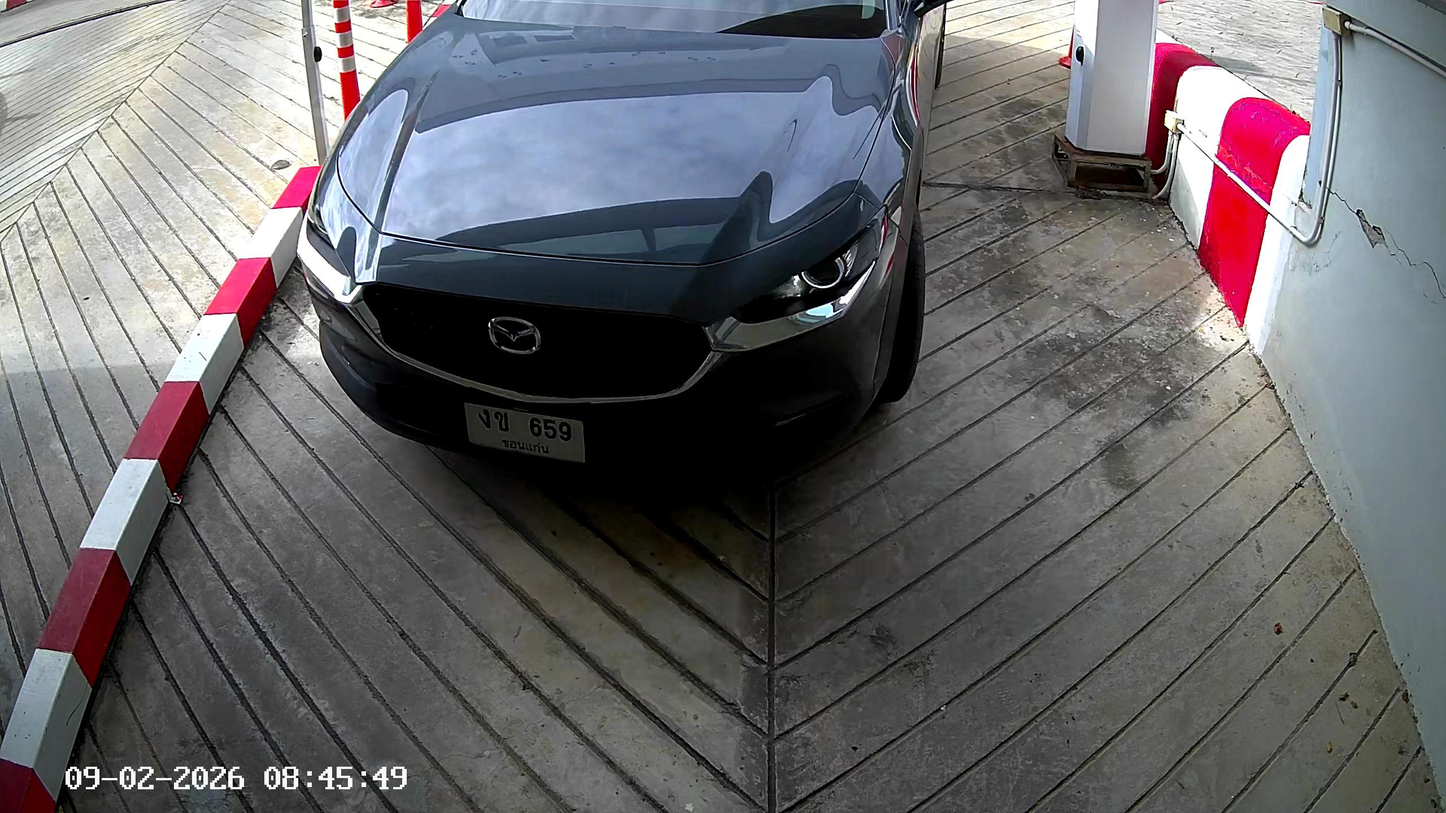car: (301, 5, 944, 479)
license-plate: (459, 394, 589, 468)
